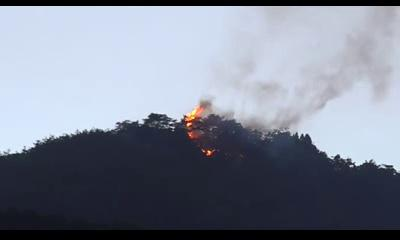fire: (181, 106, 206, 130)
